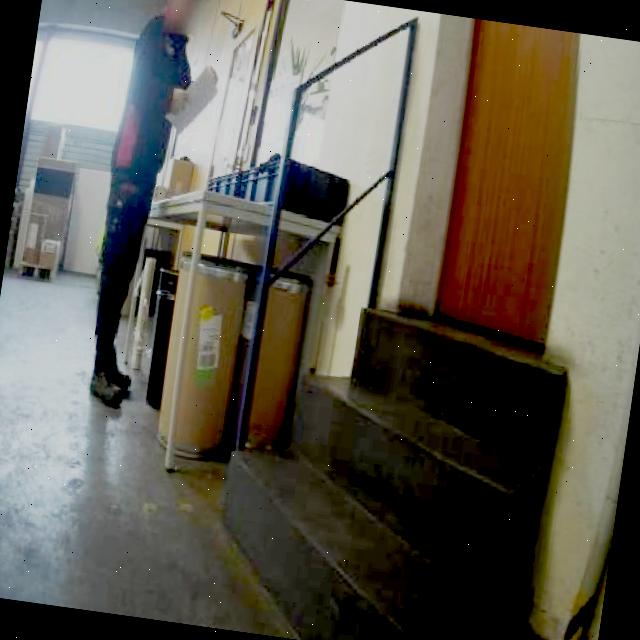pallet: (112, 135, 356, 479), (19, 211, 66, 281), (5, 189, 28, 274)
